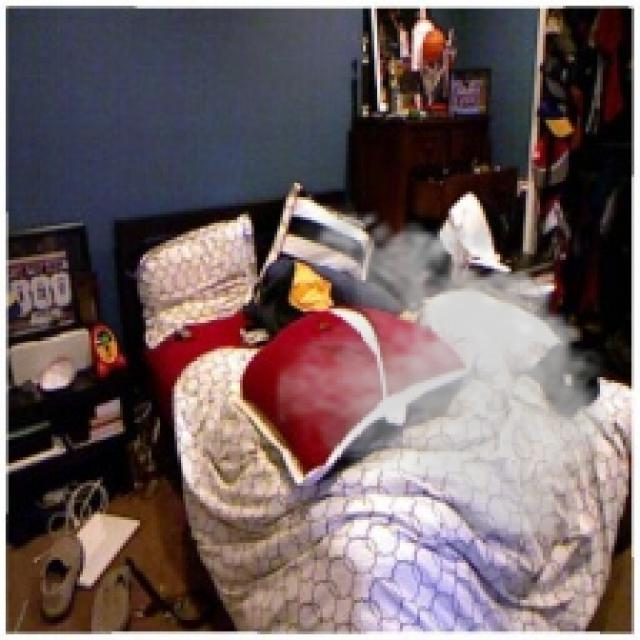smoke: (274, 200, 629, 549)
